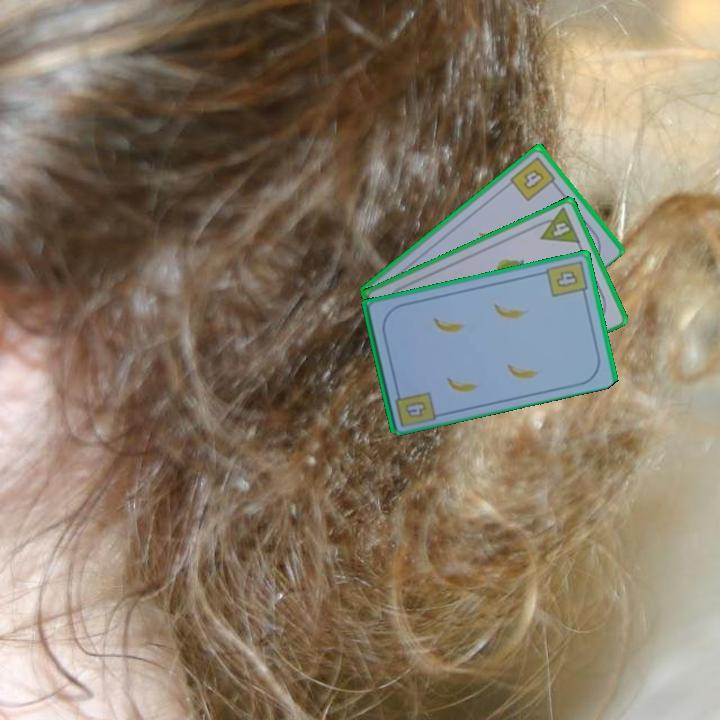4b: (507, 153, 561, 203), (543, 256, 590, 300), (401, 397, 430, 420)
4p: (532, 204, 583, 246)
